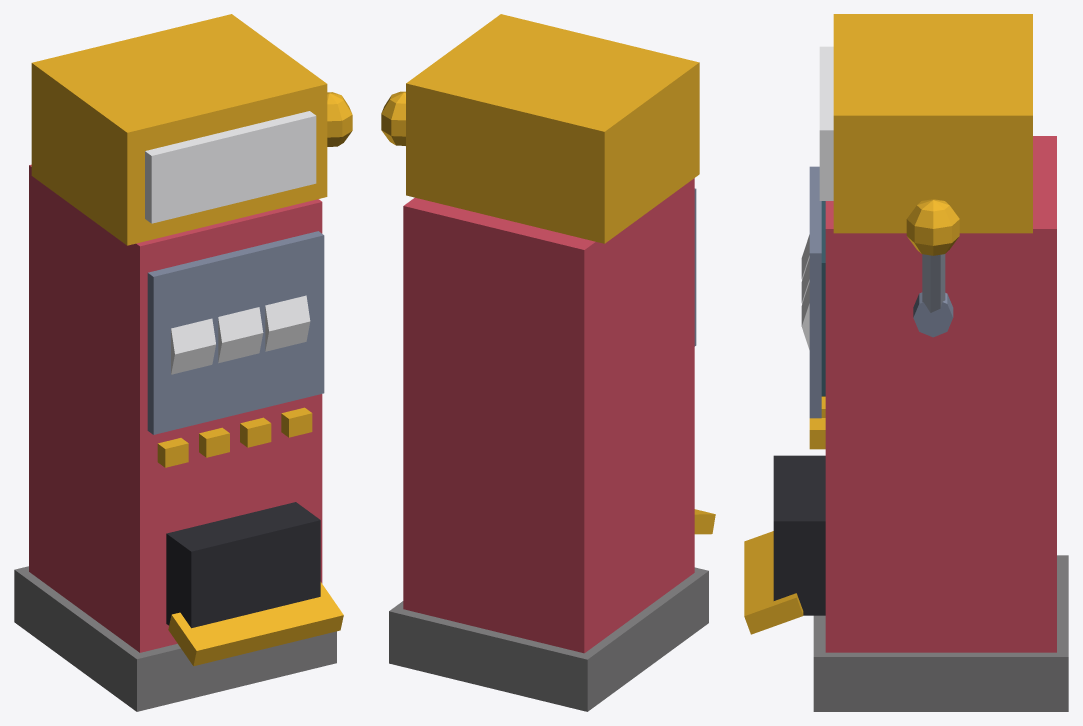
Rendered from slot_machine.glb.
3 views of the same model, side by side, from view 1: azimuth 30°, elevation 25°; view 2: azimuth 150°, elevation 25°; view 3: azimuth 270°, elevation 25° (orthographic). The views are drawn at different scales.
Parts seen in each view (by area): view 1: slot_machine; view 2: slot_machine; view 3: slot_machine.
Boxes of the visible parts, x1,y1,x2,y2 form: slot_machine: (14, 14, 352, 711); slot_machine: (381, 14, 715, 711); slot_machine: (744, 14, 1068, 711).
Bounding box in the file's own units: 0.75 × 1.52 × 0.75.
